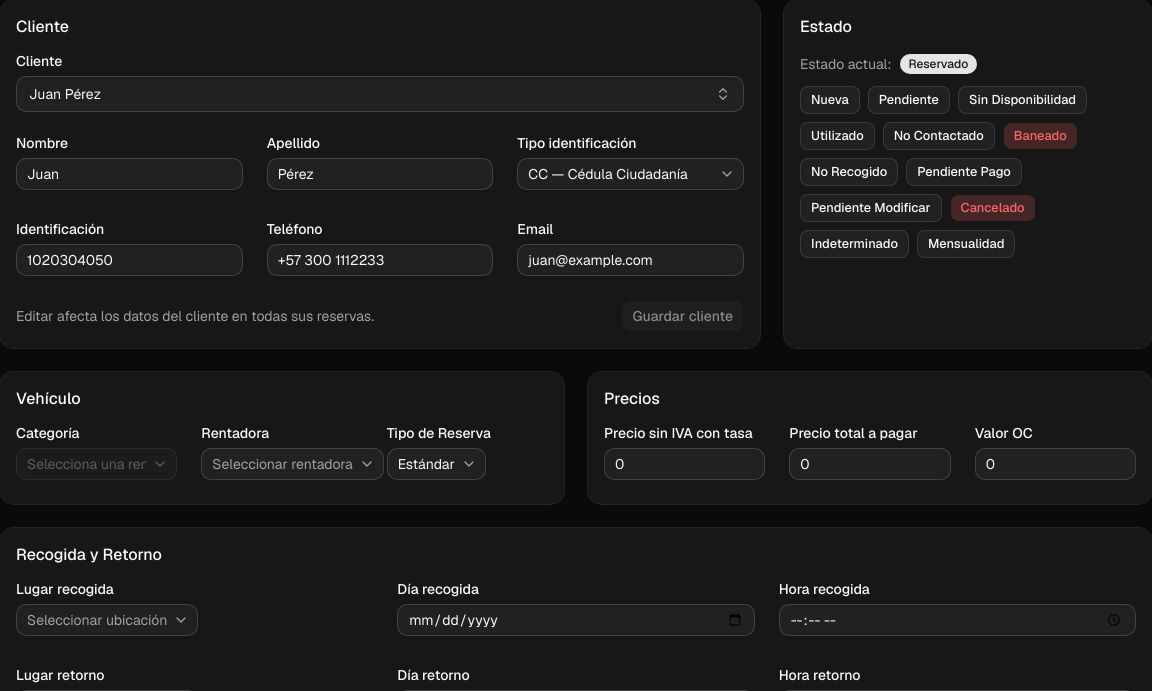
Test case: ReservationForm — issue #75: linked customer outside the getCustomers() window › re-seeds from the in-window list when the operator switches customer
The image size is (1152, 691).
Expected: the field labelled "Nombre" holds "Juan", x1=16 y1=158 x2=243 y2=190
Note: Abrir el combobox y seleccionar el cliente in-window (Daniela).
Click the dropdown named "Cliente" at (65, 94), box x1=16 y1=76 x2=744 y2=112
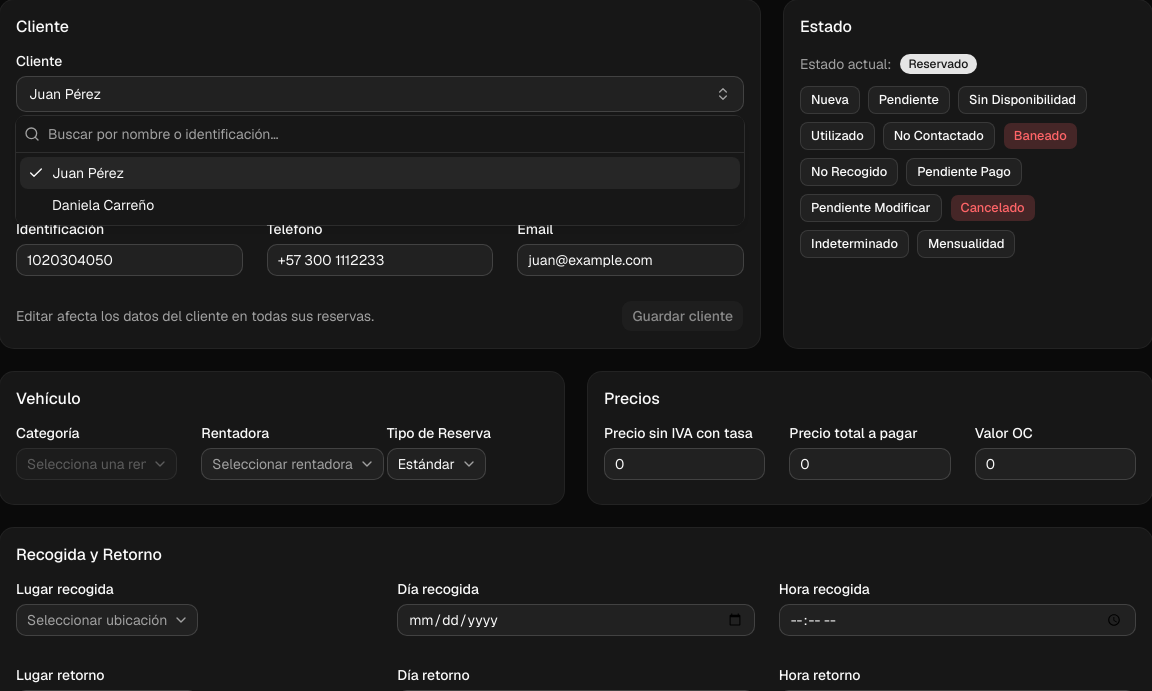
Click the option "Daniela Carreño" at (103, 205), box x1=52 y1=196 x2=154 y2=214
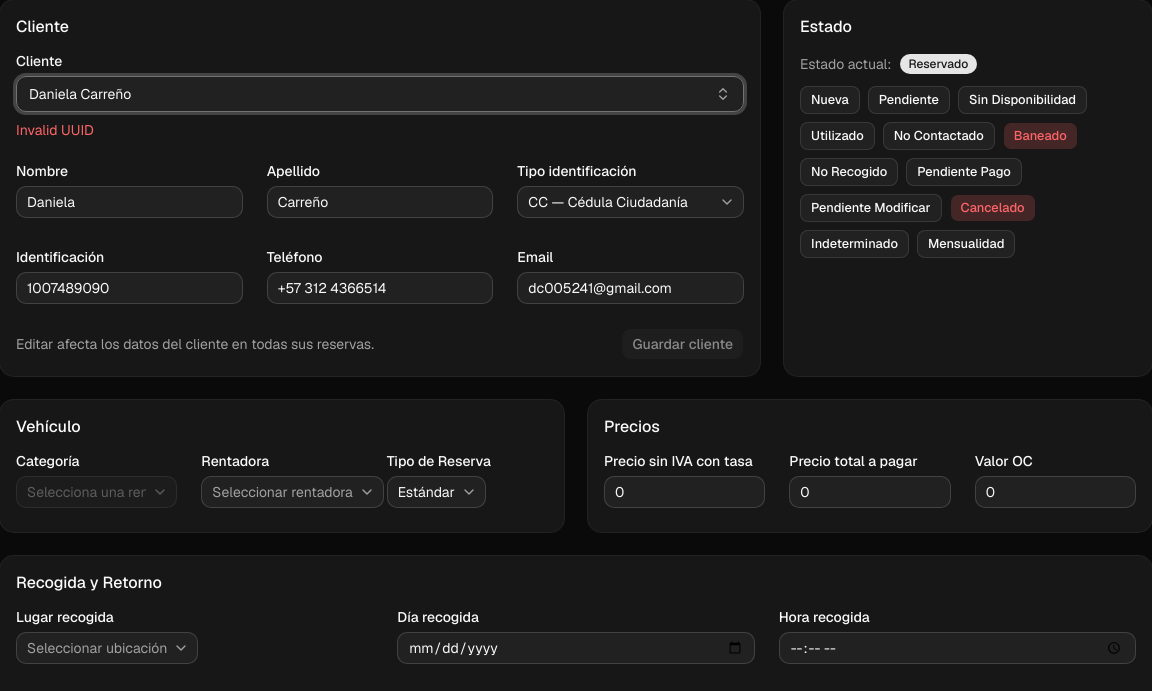
Expected: the field labelled "Nombre" holds "Daniela", x1=16 y1=186 x2=243 y2=218
Expected: the field labelled "Email" holds "dc005241@gmail.com", x1=517 y1=272 x2=744 y2=304
